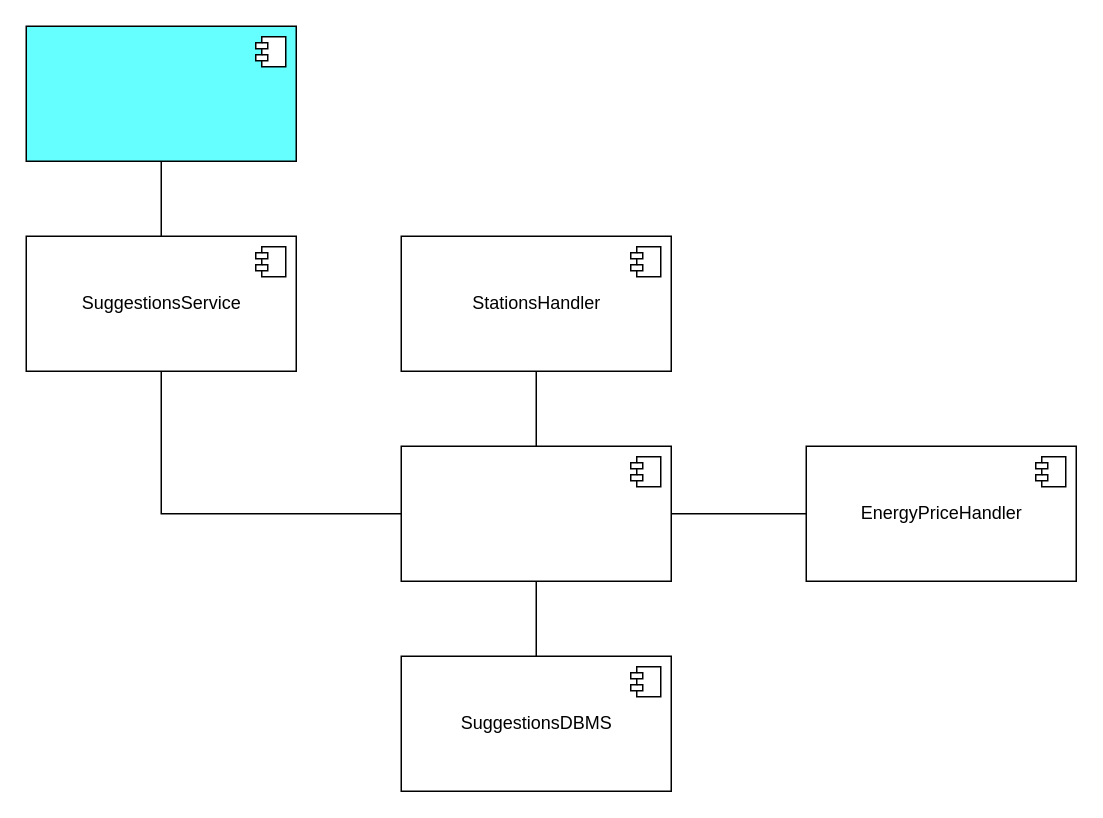
This 1103x818 diagram has some shape labels left out. Here are the shapes that lost their labels. From the top down, the centre of each, then its label:
(x=160, y=93): Driver
(x=535, y=513): SuggestionsProvider
